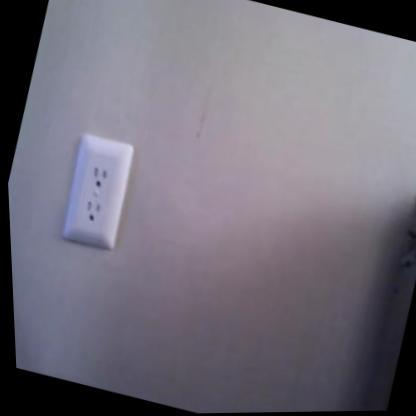OUTLET: (54, 130, 141, 253)
